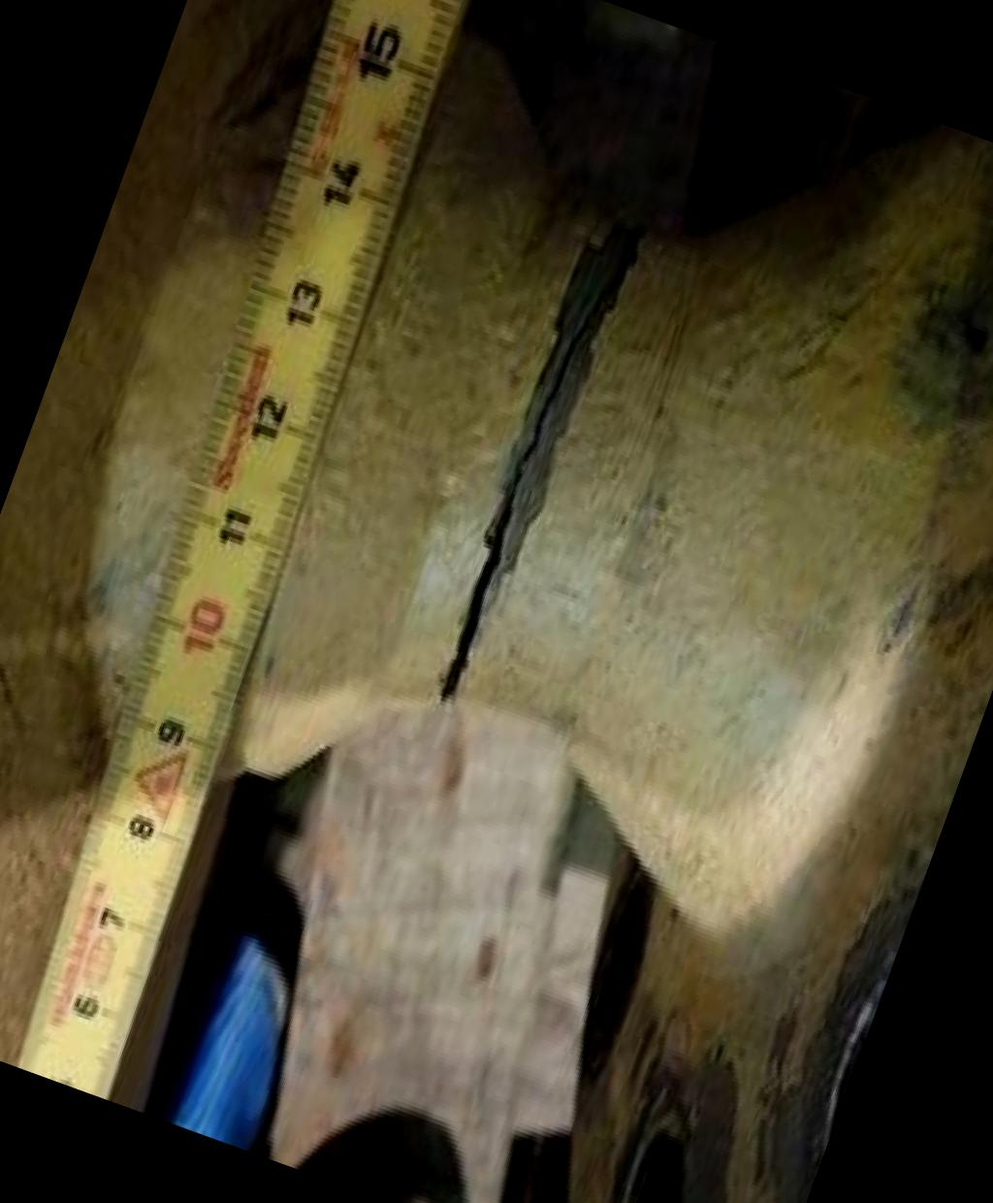crack: (413, 191, 653, 715)
